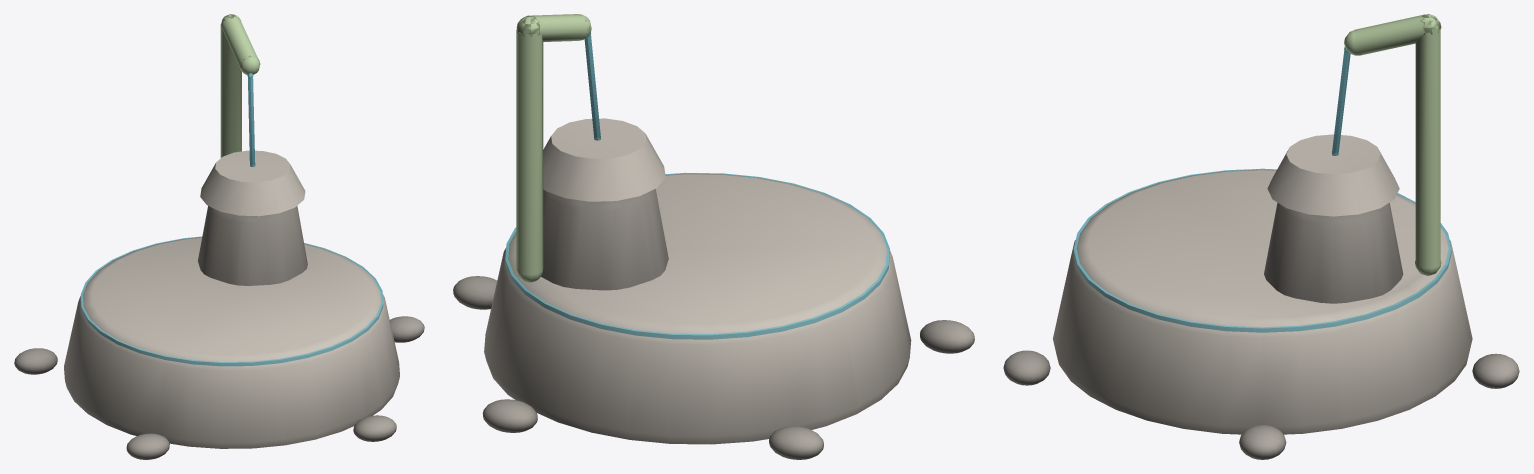
The model's file is zen-garden--stone-fountain.glb.
3 views of the same model, side by side, from view 1: azimuth 30°, elevation 25°; view 2: azimuth 150°, elevation 25°; view 3: azimuth 270°, elevation 25° (orthographic). The views are drawn at different scales.
Visible parts, largest first — view 1: zen-garden--stone-fountain; view 2: zen-garden--stone-fountain; view 3: zen-garden--stone-fountain.
Boxes of the visible parts, bbox=[...] form: zen-garden--stone-fountain: bbox=[14, 14, 424, 459]; zen-garden--stone-fountain: bbox=[453, 14, 974, 459]; zen-garden--stone-fountain: bbox=[1003, 14, 1519, 459].
Bounding box in the file's own units: 1.07 × 0.878 × 1.09.
